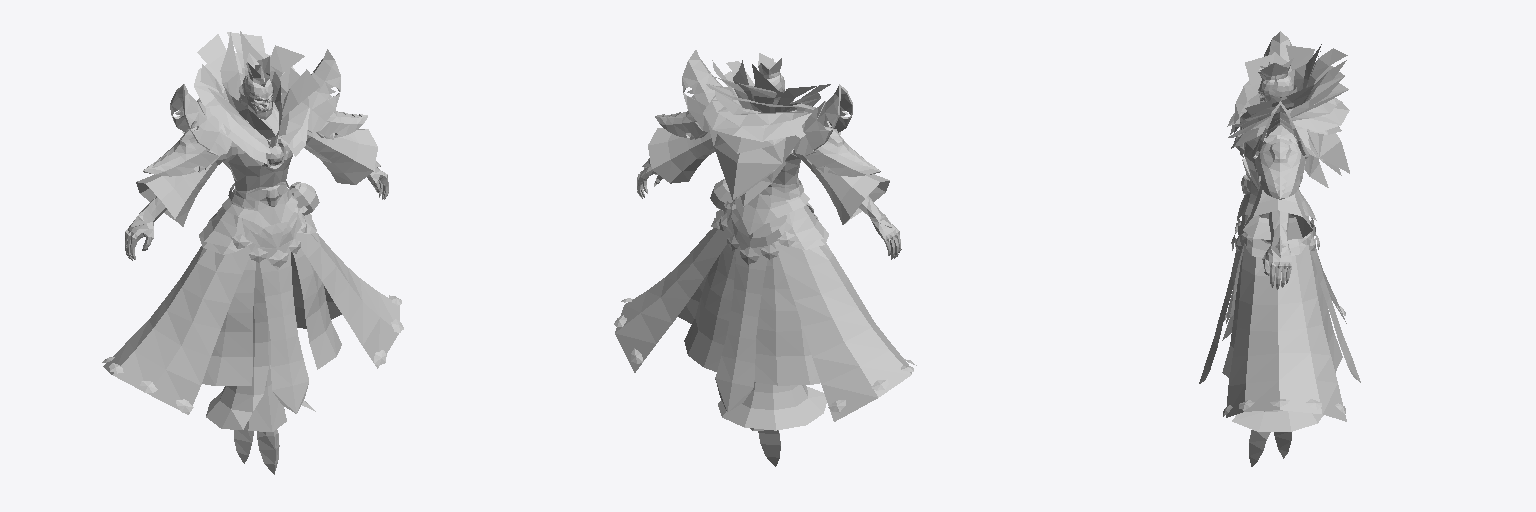
The model's file is manelloth.obj.
3 views of the same model, side by side, from view 1: azimuth 30°, elevation 25°; view 2: azimuth 150°, elevation 25°; view 3: azimuth 270°, elevation 25° (orthographic).
Parts seen in each view (by area): view 1: manelloth_03-mesh, manelloth_01-mesh, manelloth_02-mesh; view 2: manelloth_03-mesh, manelloth_01-mesh, manelloth_02-mesh; view 3: manelloth_03-mesh, manelloth_01-mesh, manelloth_02-mesh.
Boxes of the visible parts, box(x1,y1,x2,y2) form: manelloth_03-mesh: box(102, 224, 403, 474); manelloth_01-mesh: box(136, 31, 377, 267); manelloth_02-mesh: box(125, 161, 388, 260); manelloth_03-mesh: box(614, 218, 916, 466); manelloth_01-mesh: box(648, 50, 889, 264); manelloth_02-mesh: box(637, 158, 901, 259); manelloth_03-mesh: box(1199, 215, 1360, 466); manelloth_01-mesh: box(1227, 31, 1349, 257); manelloth_02-mesh: box(1262, 210, 1291, 289).
Bounding box in the file's own units: 252 × 345 × 121.